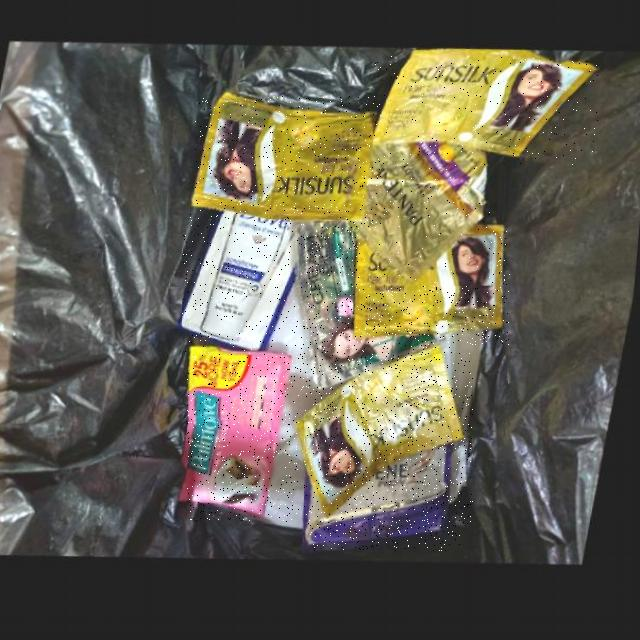wrapper: (305, 354, 473, 524), (301, 226, 453, 395), (375, 57, 600, 166), (195, 96, 381, 227), (188, 349, 299, 522), (360, 149, 491, 286), (183, 215, 303, 356), (361, 232, 510, 345), (311, 456, 460, 551)
